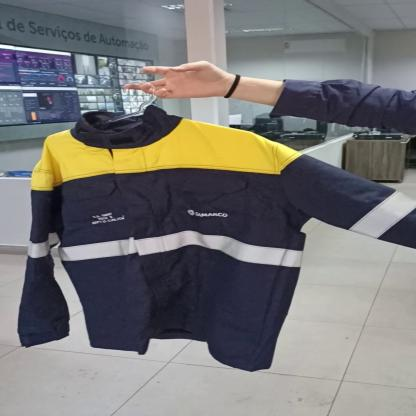C_eletrica: (14, 115, 416, 374)
